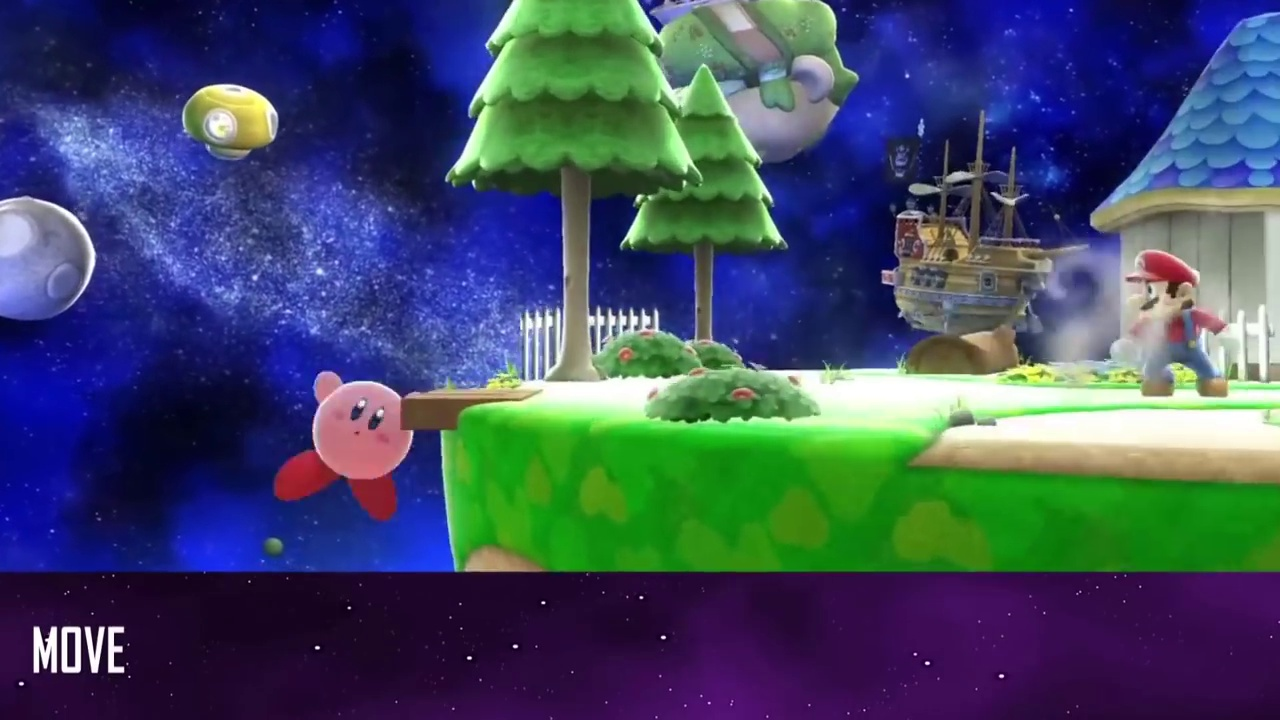Mario: (1110, 250, 1239, 397)
